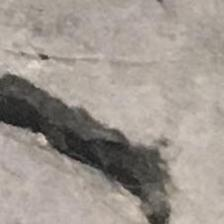Crack: (0, 67, 189, 224)
